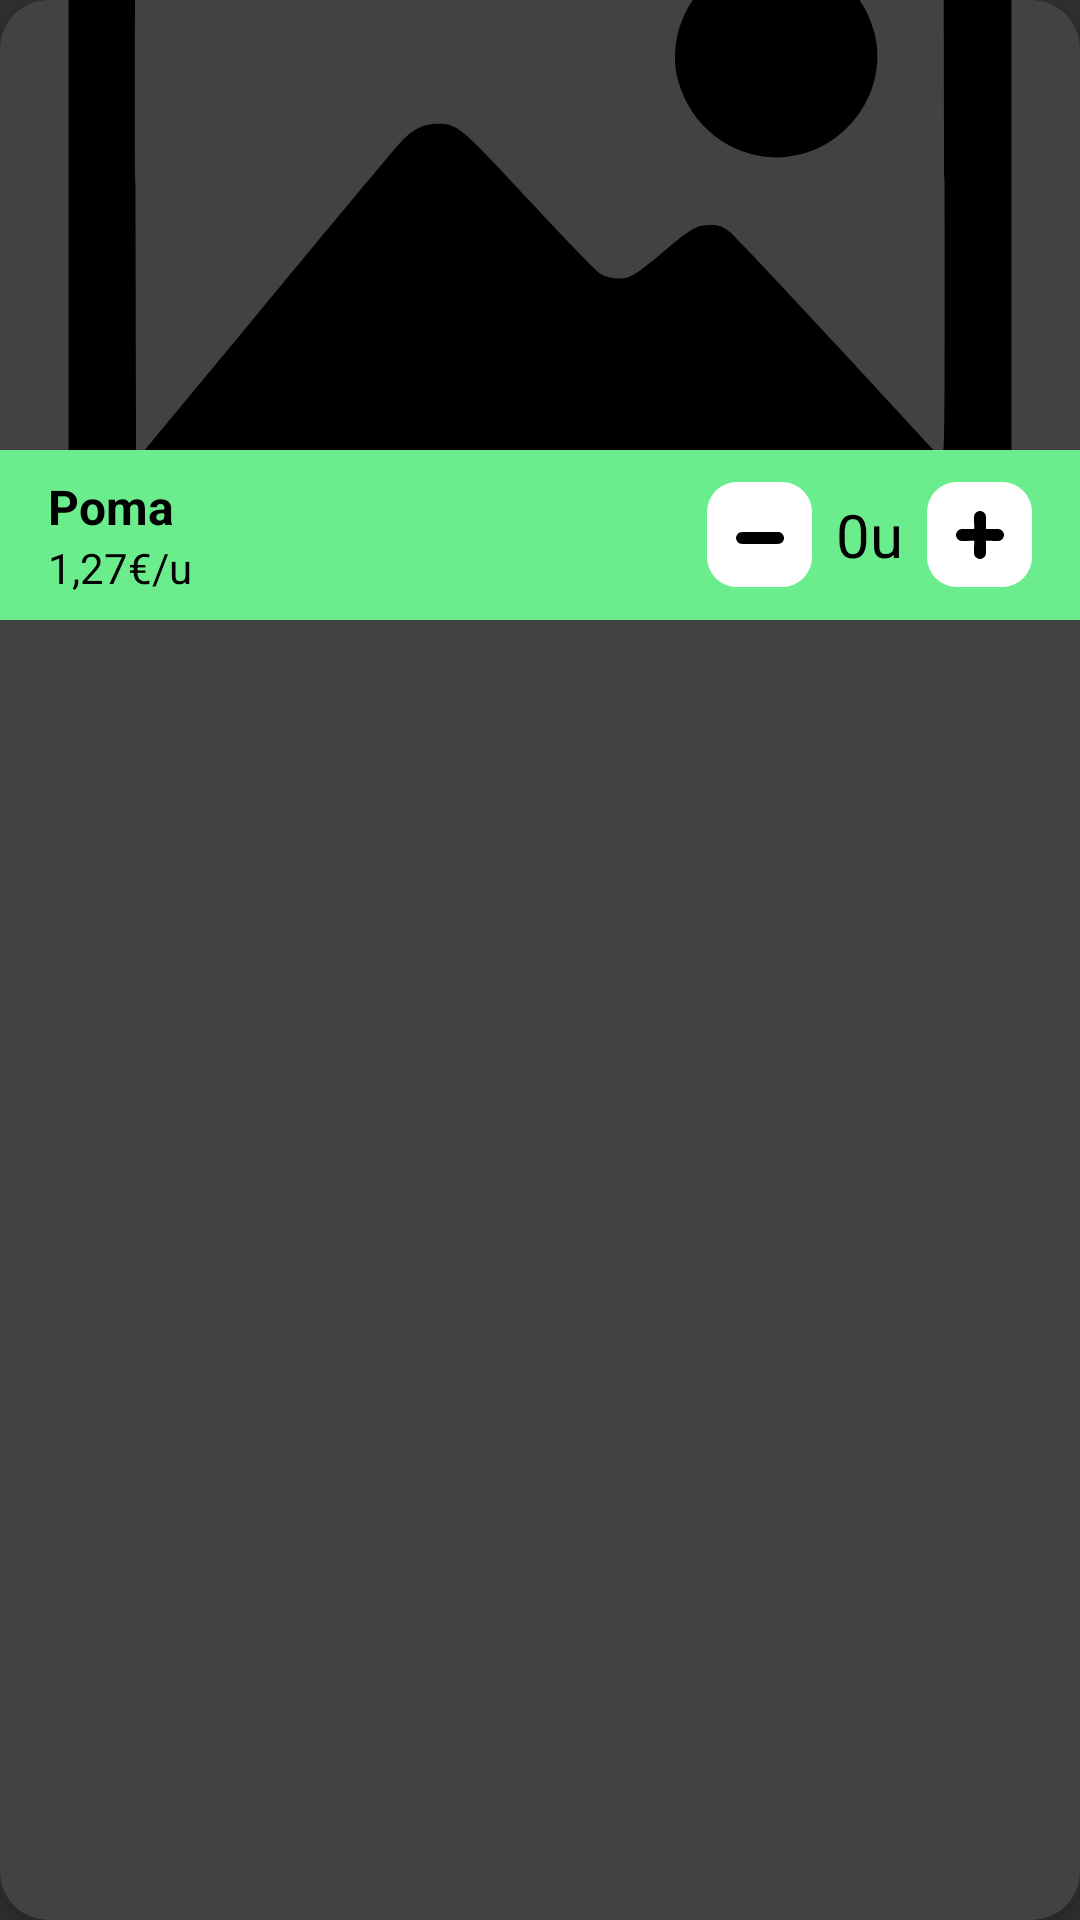

Icons on this 1080x1920 Android screen, each with the point to tap as point (x, y):
minus: point (759, 534)
plus: point (979, 534)
